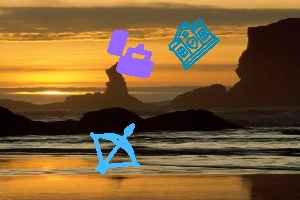弓箭: (90, 123, 140, 172)
房子: (169, 19, 219, 68)
打火机: (107, 30, 154, 79)
